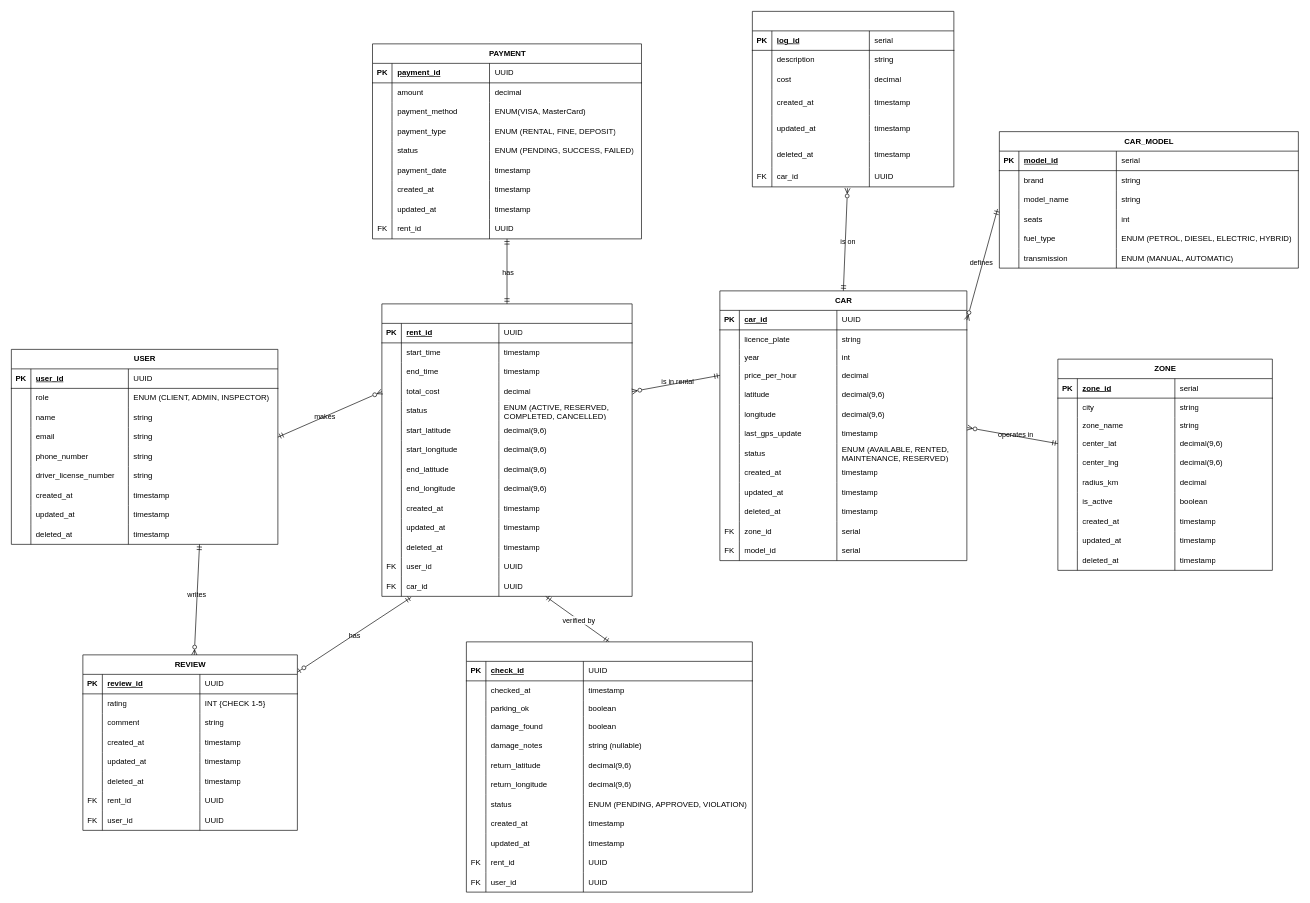
Image size: 1310x903. Some labels were removed from this diagram. Each missing label, with the box of its shape:
MAINTENANCE_LOG: (752, 11, 954, 187)
RENTAL: (381, 303, 632, 596)
RENTAL_RETURN_CHECK: (466, 641, 752, 892)
